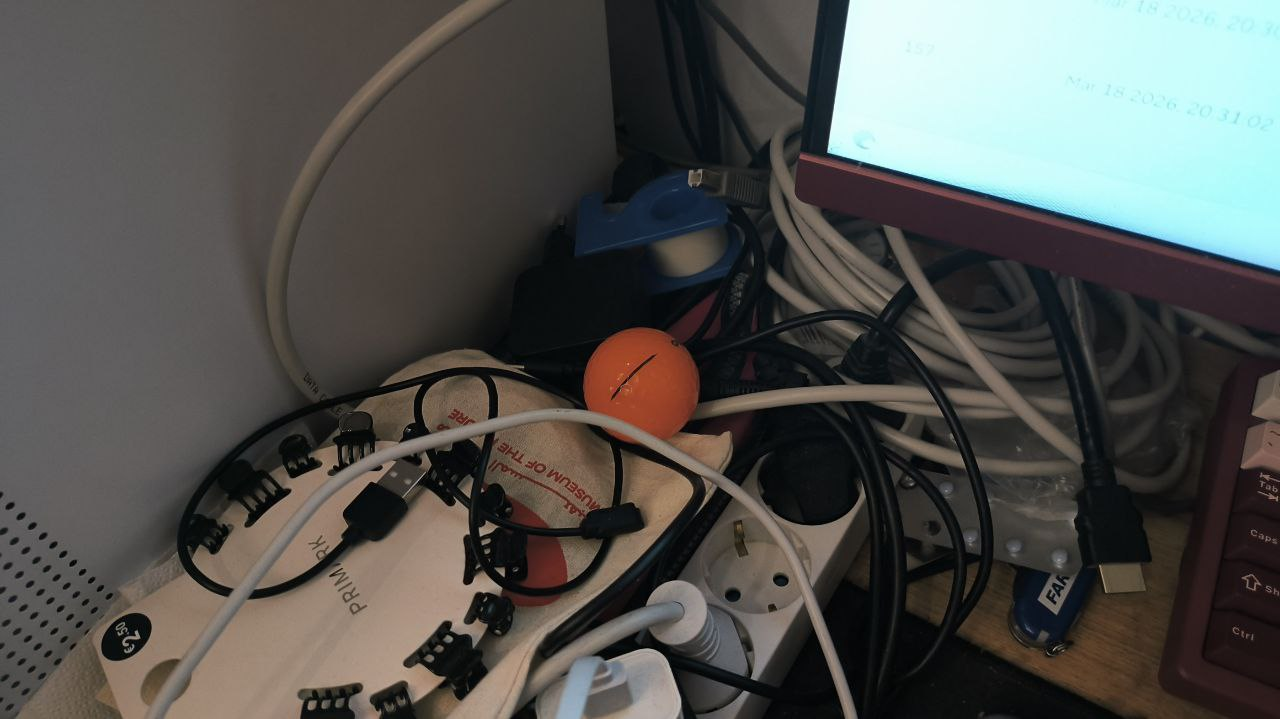orange_ball: (583, 327, 700, 445)
